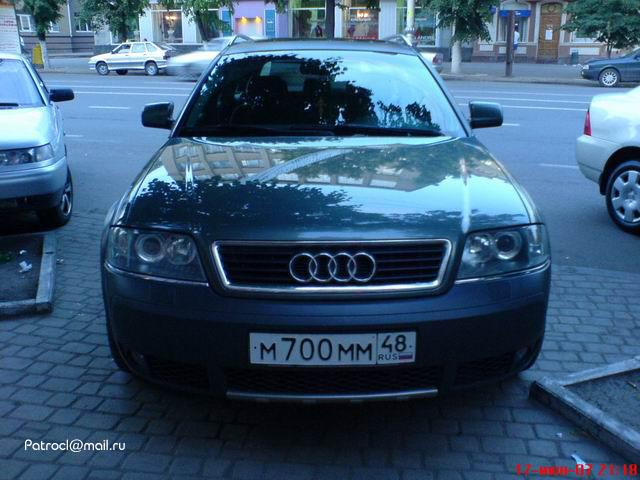license-plateSW: (250, 330, 420, 365)
